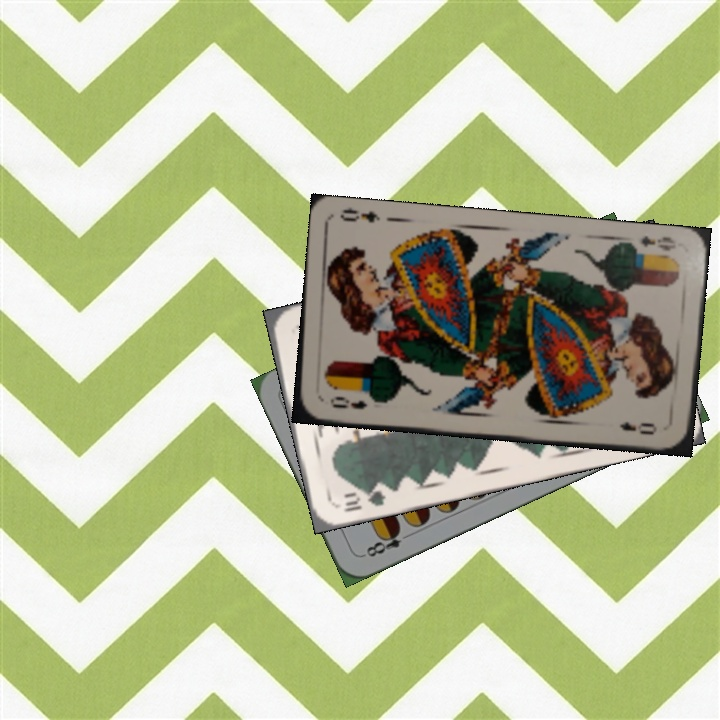E8: (358, 524, 414, 560)
EO: (637, 231, 679, 254), (326, 392, 370, 412)
G10: (339, 481, 391, 515)
